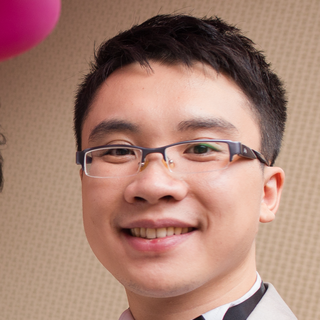eye: (92, 135, 144, 168), (176, 133, 229, 162)
